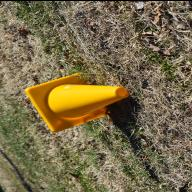cone: (24, 72, 130, 132)
